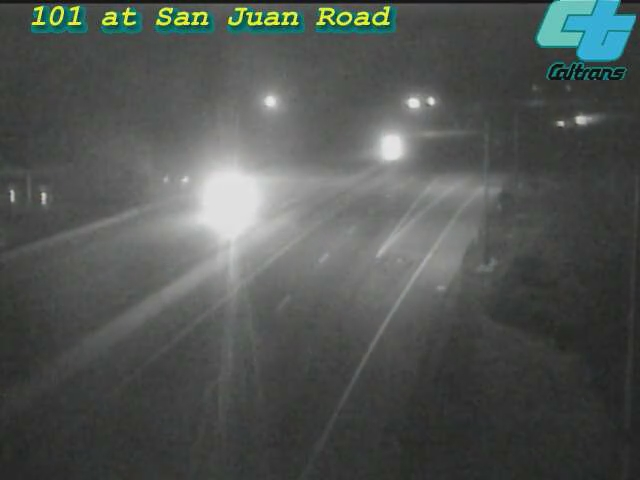vehicle: (187, 160, 267, 240), (364, 123, 414, 173), (561, 94, 611, 144), (537, 97, 587, 147)
